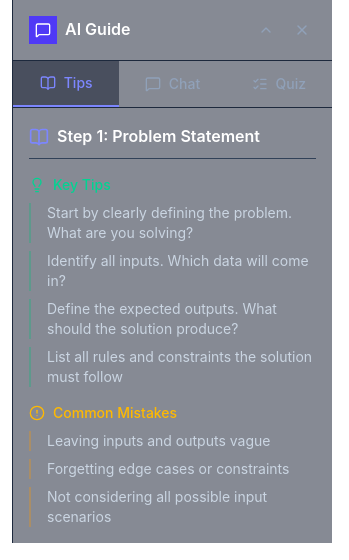
it: AIGuideSidebar › opens the AI quiz from the Quiz tab
What coordinates should you click on to do the following:
click the button "Quiz"
I would click on:
 (279, 84)
Its box is [226,61,332,107].
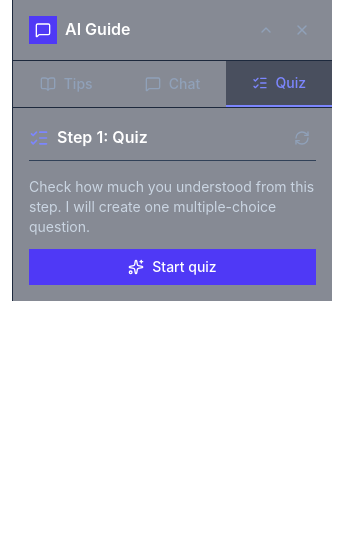
Expected: the heading "Step 1: Quiz" is shown, [57,125,148,151]
Expected: the button "Start quiz" is shown, [29,249,316,285]
